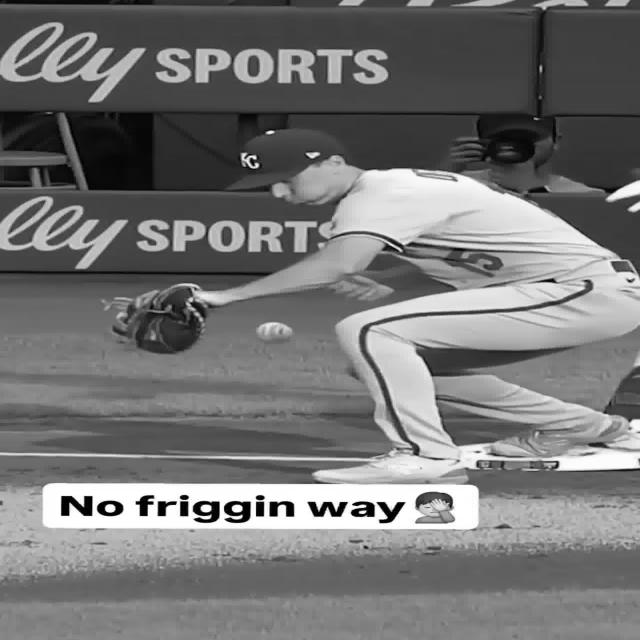base: (460, 444, 640, 471)
baseball: (256, 322, 293, 342)
baseball_glove: (104, 284, 207, 354)
shoe: (491, 414, 629, 458), (313, 449, 469, 484)
